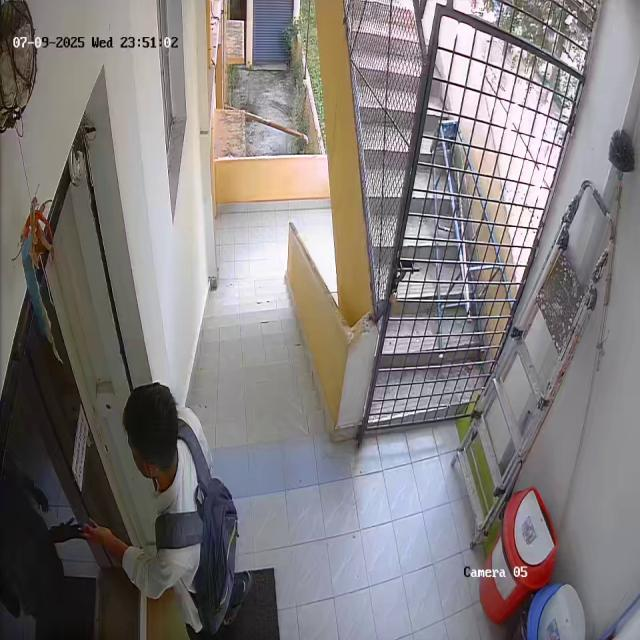person: (101, 380, 241, 638)
